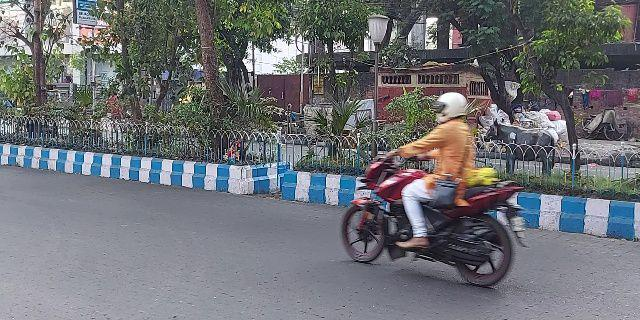Motorbike: (330, 94, 526, 292)
